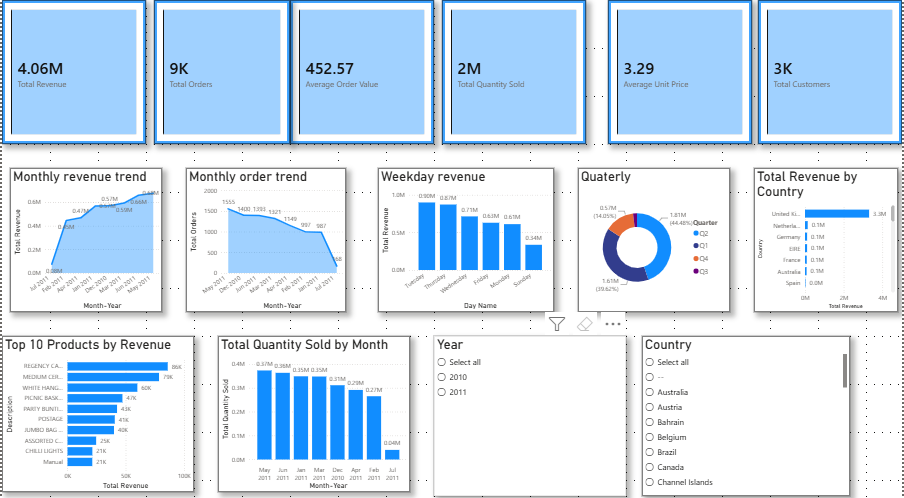

This screenshot's page, from the dashboard's own definition file:
{"tool":"powerbi","page":{"name":"Sales Analytics","canvas":[1800,1500],"ordinal":2},"visuals":[{"type":"cardVisual","fields":{"Data":["mea.Total Revenue"]},"box":[0,0,288,288],"z":0},{"type":"cardVisual","fields":{"Data":["mea.Average Unit Price"]},"box":[1212,0,288,288],"z":1000},{"type":"cardVisual","fields":{"Data":["mea.Average Order Value"]},"box":[576,0,288,288],"z":2000},{"type":"cardVisual","fields":{"Data":["mea.Total Orders"]},"box":[304,0,272,288],"z":3000},{"type":"cardVisual","fields":{"Data":["mea.Total Quantity Sold"]},"box":[880,0,288,288],"z":4000},{"type":"cardVisual","fields":{"Data":["mea.Total Customers"]},"box":[1512,0,288,288],"z":5000},{"type":"lineChart","title":"Monthly revenue trend ","fields":{"Y":["mea.Total Revenue"],"Category":["Calendar.Month-Year"]},"box":[16,336,304,288],"z":6000},{"type":"lineChart","title":"Monthly order trend ","fields":{"Category":["Calendar.Month-Year"],"Y":["mea.Total Orders"]},"box":[368,336,320,288],"z":7000},{"type":"clusteredColumnChart","title":"Weekday revenue ","fields":{"Y":["mea.Total Revenue"],"Category":["Calendar.Day Name"]},"box":[752,336,352,288],"z":8000},{"type":"donutChart","title":"Quaterly ","fields":{"Y":["mea.Total Revenue"],"Category":["Calendar.Quarter"]},"box":[1152,336,304,288],"z":9000},{"type":"clusteredBarChart","fields":{"Y":["mea.Total Revenue"],"Category":["customers.Country"]},"box":[1504,336,288,288],"z":10000},{"type":"clusteredBarChart","title":"Top 10 Products by Revenue","fields":{"Category":["Products.Description"],"Y":["mea.Total Revenue"]},"box":[0,672,384,312],"z":11000},{"type":"columnChart","title":"Total Quantity Sold by Month","fields":{"Y":["mea.Total Quantity Sold"],"Category":["Calendar.Month-Year"]},"box":[432,672,384,312],"z":12000},{"type":"listSlicer","fields":{"Values":["Calendar.Year"]},"box":[864,672,384,320],"z":13000},{"type":"listSlicer","fields":{"Values":["customers.Country"]},"box":[1280,672,416,320],"z":14000}]}

Visuals, with their boxes on the page's 1800x1500 design canvas (x1, y1, x2, y2). These are canvas units, not pixel positions in the 904x498 screenshot, which may show the page scaled, cropped or inside an application window:
cardVisual - mea.Total Revenue: <region>0, 0, 288, 288</region>
cardVisual - mea.Average Unit Price: <region>1212, 0, 1500, 288</region>
cardVisual - mea.Average Order Value: <region>576, 0, 864, 288</region>
cardVisual - mea.Total Orders: <region>304, 0, 576, 288</region>
cardVisual - mea.Total Quantity Sold: <region>880, 0, 1168, 288</region>
cardVisual - mea.Total Customers: <region>1512, 0, 1800, 288</region>
"Monthly revenue trend " lineChart: <region>16, 336, 320, 624</region>
"Monthly order trend " lineChart: <region>368, 336, 688, 624</region>
"Weekday revenue " clusteredColumnChart: <region>752, 336, 1104, 624</region>
"Quaterly " donutChart: <region>1152, 336, 1456, 624</region>
clusteredBarChart - mea.Total Revenue x customers.Country: <region>1504, 336, 1792, 624</region>
"Top 10 Products by Revenue" clusteredBarChart: <region>0, 672, 384, 984</region>
"Total Quantity Sold by Month" columnChart: <region>432, 672, 816, 984</region>
listSlicer - Calendar.Year: <region>864, 672, 1248, 992</region>
listSlicer - customers.Country: <region>1280, 672, 1696, 992</region>
